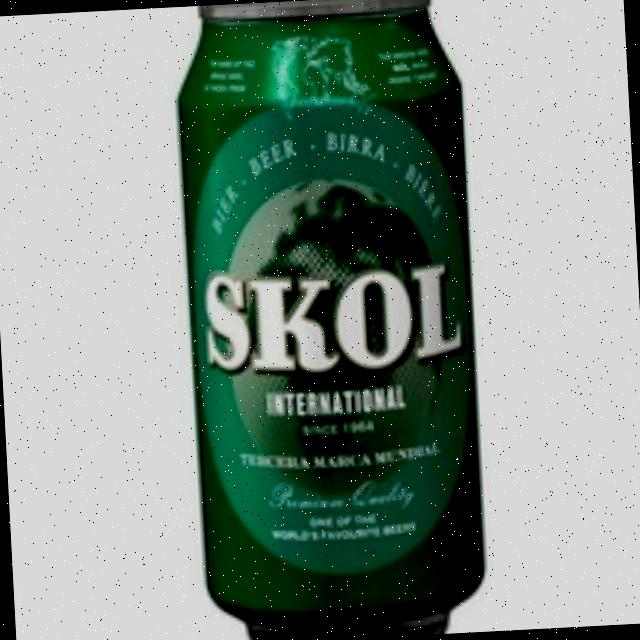Metal: (168, 0, 488, 640)
